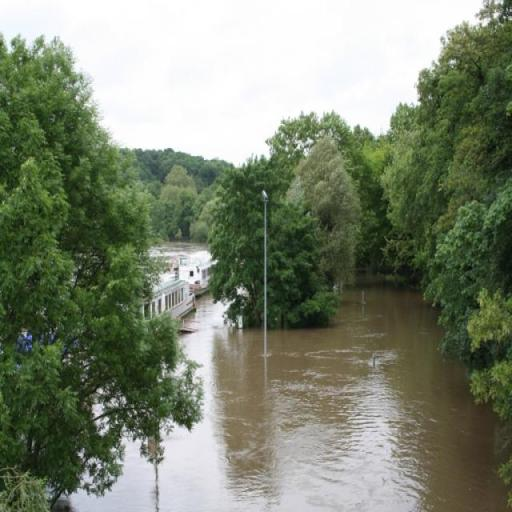flood: (69, 283, 511, 512), (153, 242, 208, 263)
house: (140, 242, 208, 315)
